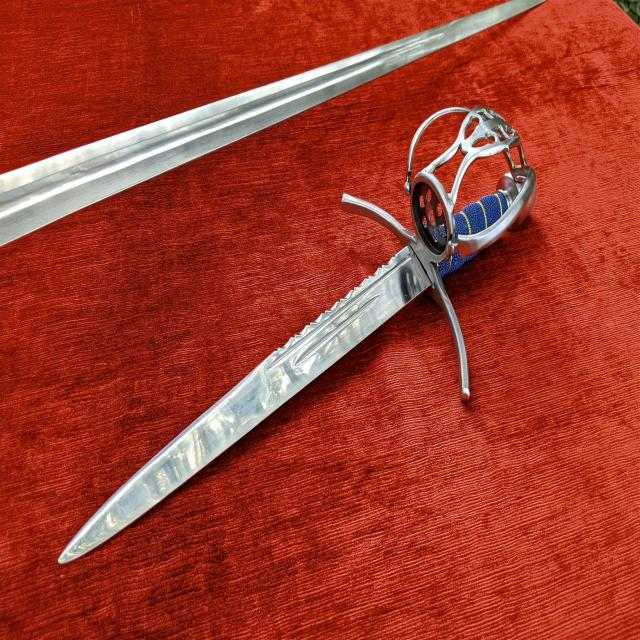Gun: (54, 87, 565, 583)
